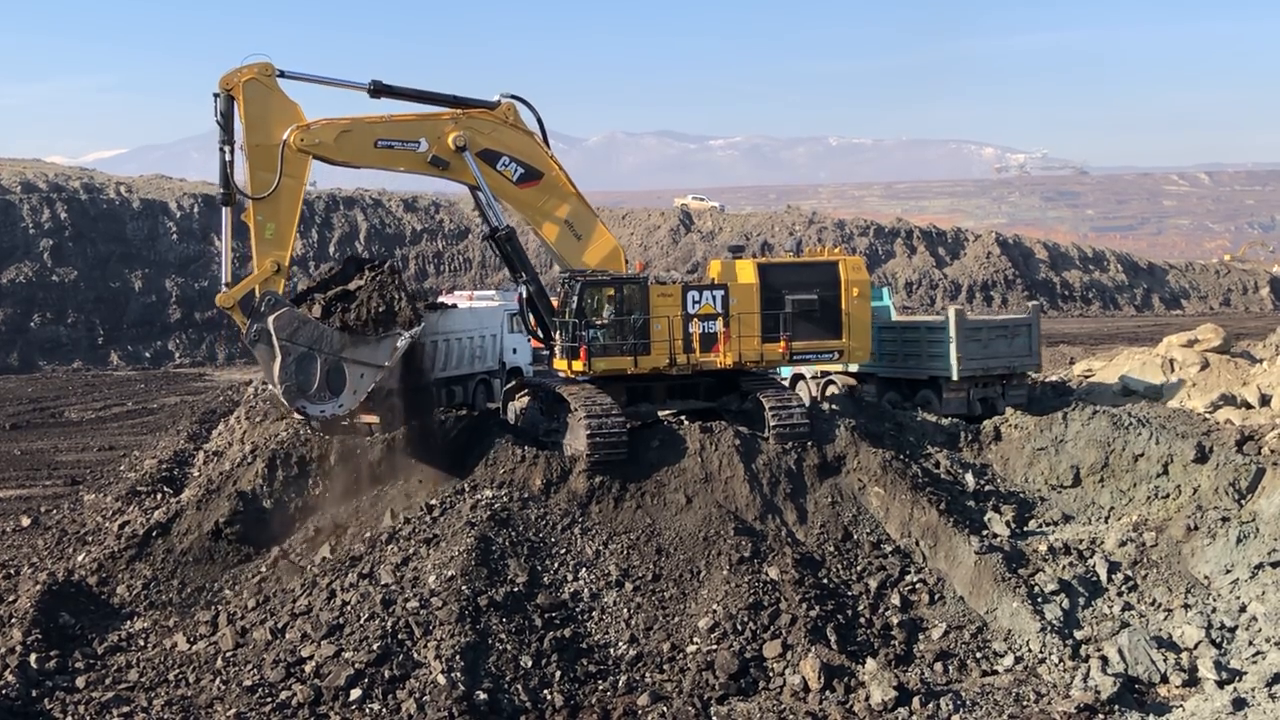full: (243, 249, 430, 429)
